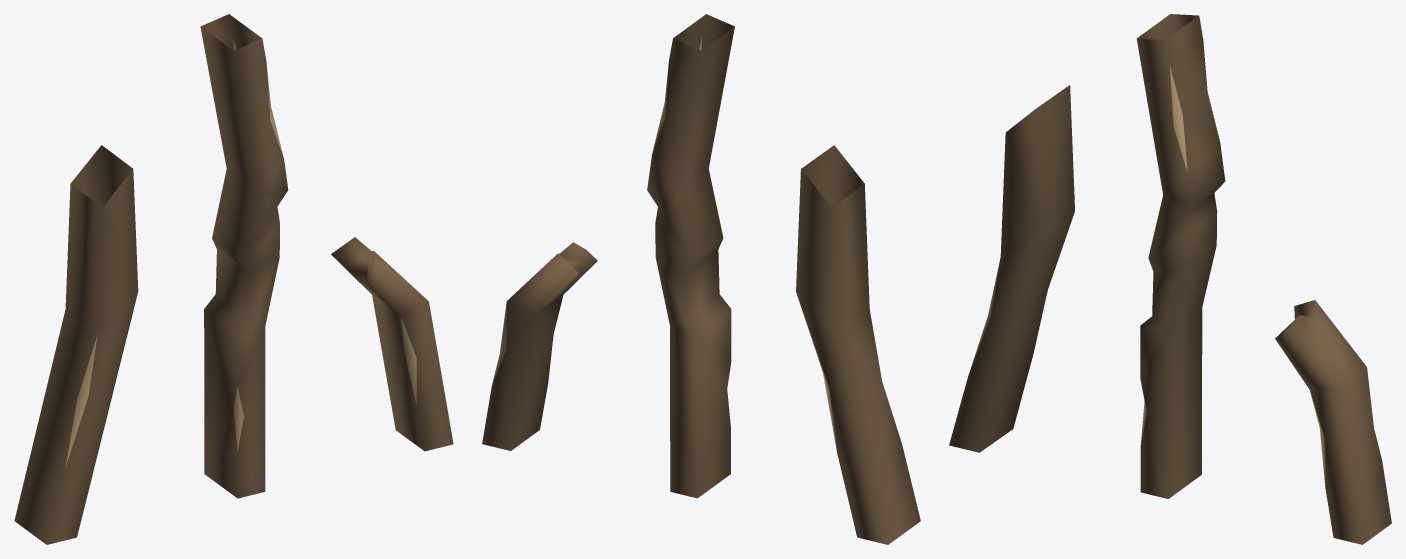
File: rpgpp_av_roof_end_01_9x4_wall_beam_e.fbx
The picture shows the model from 3 angles, left to right: view 1: azimuth 30°, elevation 25°; view 2: azimuth 150°, elevation 25°; view 3: azimuth 330°, elevation 25°; orthographic projection.
Visible parts, largest first — view 1: rpgpp_av_roof_end_01_9x4_wall_beam_e; view 2: rpgpp_av_roof_end_01_9x4_wall_beam_e; view 3: rpgpp_av_roof_end_01_9x4_wall_beam_e.
Boxes of the visible parts, x1,y1,x2,y2 form: rpgpp_av_roof_end_01_9x4_wall_beam_e: [14, 14, 453, 544]; rpgpp_av_roof_end_01_9x4_wall_beam_e: [482, 14, 920, 544]; rpgpp_av_roof_end_01_9x4_wall_beam_e: [949, 14, 1391, 544].
Bounding box in the file's own units: 403 × 429 × 56.92.
